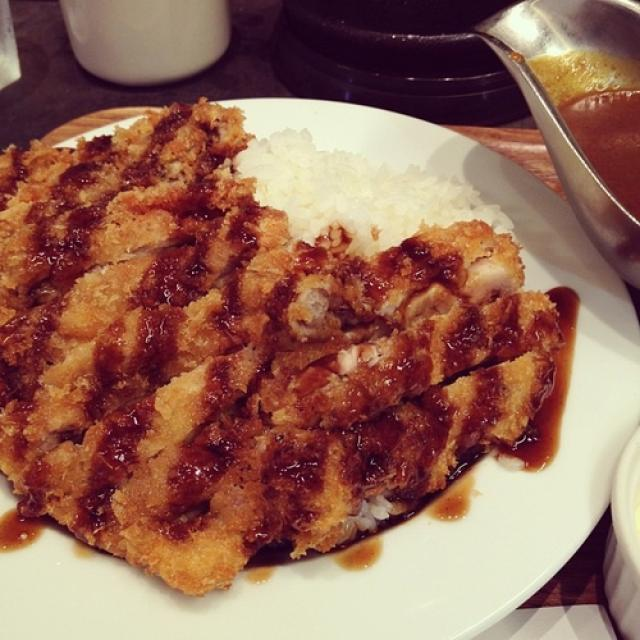鸡肉料理 含炸鸡: (5, 50, 594, 623)
